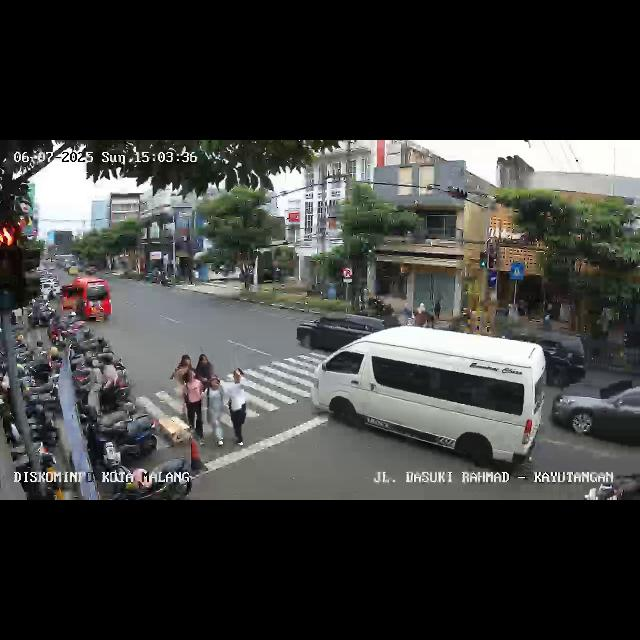car: (320, 324, 544, 468), (551, 372, 639, 448), (499, 333, 593, 387), (296, 310, 386, 354), (60, 278, 111, 324)
person: (184, 370, 208, 442), (228, 373, 250, 451), (203, 376, 224, 448), (173, 354, 193, 416), (195, 353, 215, 383)
